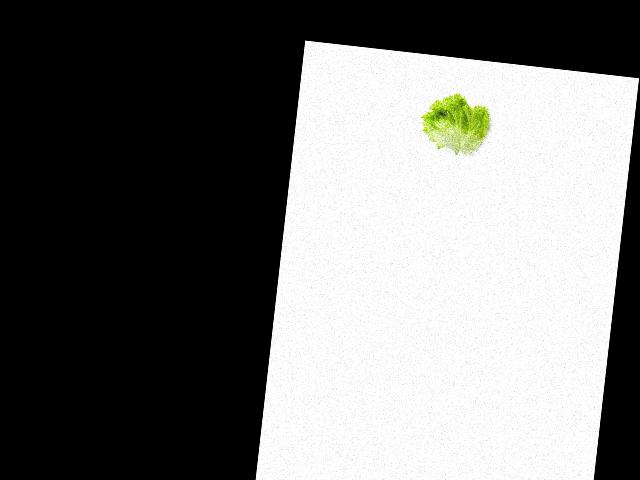lettuce: (416, 92, 497, 159)
